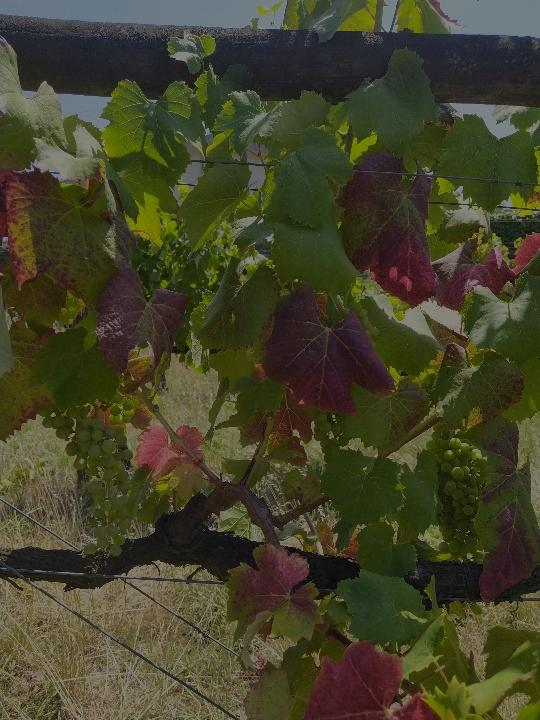grape: (37, 397, 146, 564), (425, 430, 492, 561)
